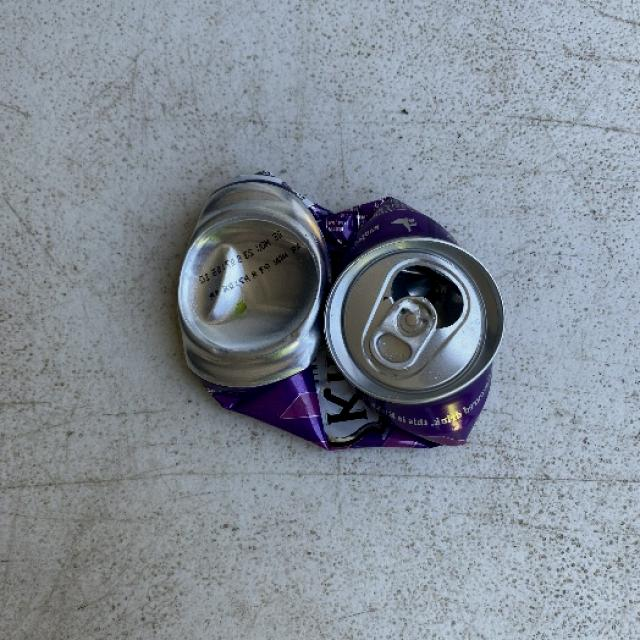inorganic: (165, 134, 520, 499)
